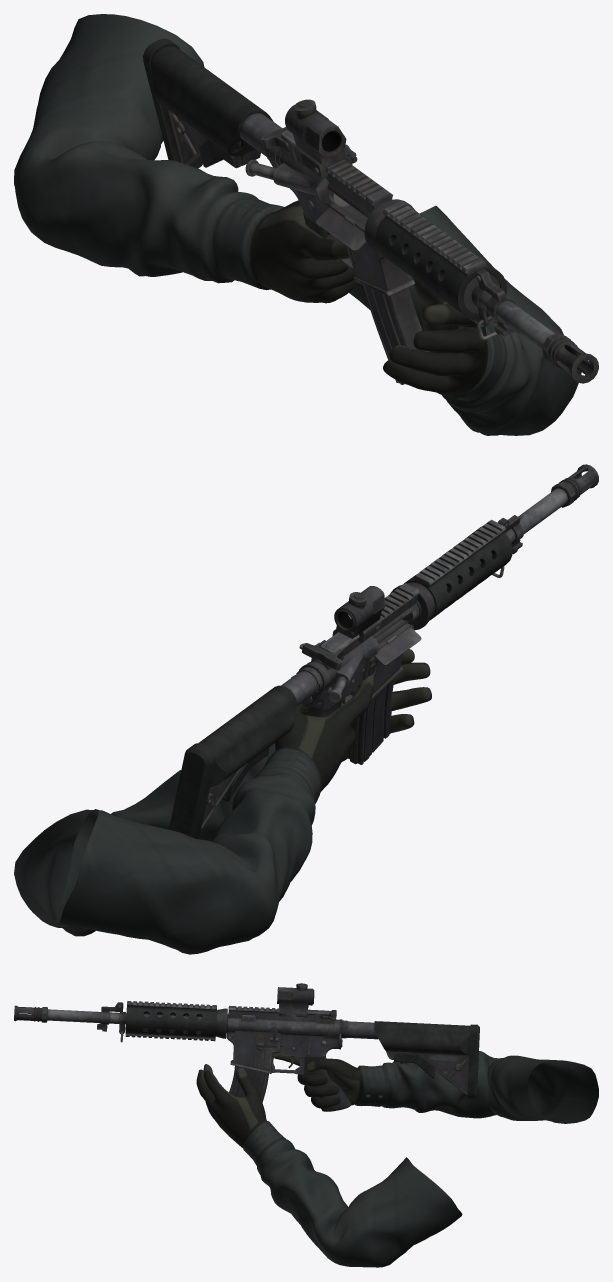
File: carbine_000038.obj
The picture shows the model from 3 angles, top to bottom: view 1: azimuth 30°, elevation 25°; view 2: azimuth 150°, elevation 25°; view 3: azimuth 270°, elevation 25°; orthographic projection. The views are drawn at different scales.
Parts seen in each view (by area): view 1: armmesh_arms_0, base_carbine_0, scope_carbine_0, clip_carbine_0, lid_carbine_0; view 2: armmesh_arms_0, base_carbine_0, clip_carbine_0, scope_carbine_0, lid_carbine_0; view 3: armmesh_arms_0, base_carbine_0, scope_carbine_0, clip_carbine_0.
Boxes of the visible parts, <box> form: armmesh_arms_0: <box>14,14,581,435</box>; base_carbine_0: <box>143,38,598,383</box>; scope_carbine_0: <box>285,99,357,177</box>; clip_carbine_0: <box>363,285,430,384</box>; lid_carbine_0: <box>316,207,366,251</box>; armmesh_arms_0: <box>14,649,431,954</box>; base_carbine_0: <box>169,464,598,839</box>; clip_carbine_0: <box>347,678,394,764</box>; scope_carbine_0: <box>332,586,385,642</box>; lid_carbine_0: <box>374,627,421,665</box>; armmesh_arms_0: <box>196,1051,598,1267</box>; base_carbine_0: <box>14,1001,479,1111</box>; scope_carbine_0: <box>277,983,314,1017</box>; clip_carbine_0: <box>229,1066,268,1102</box>.
Bounding box in the file's own units: 51.33 × 51.75 × 127.
Materials: 3 (3 with a texture image).
